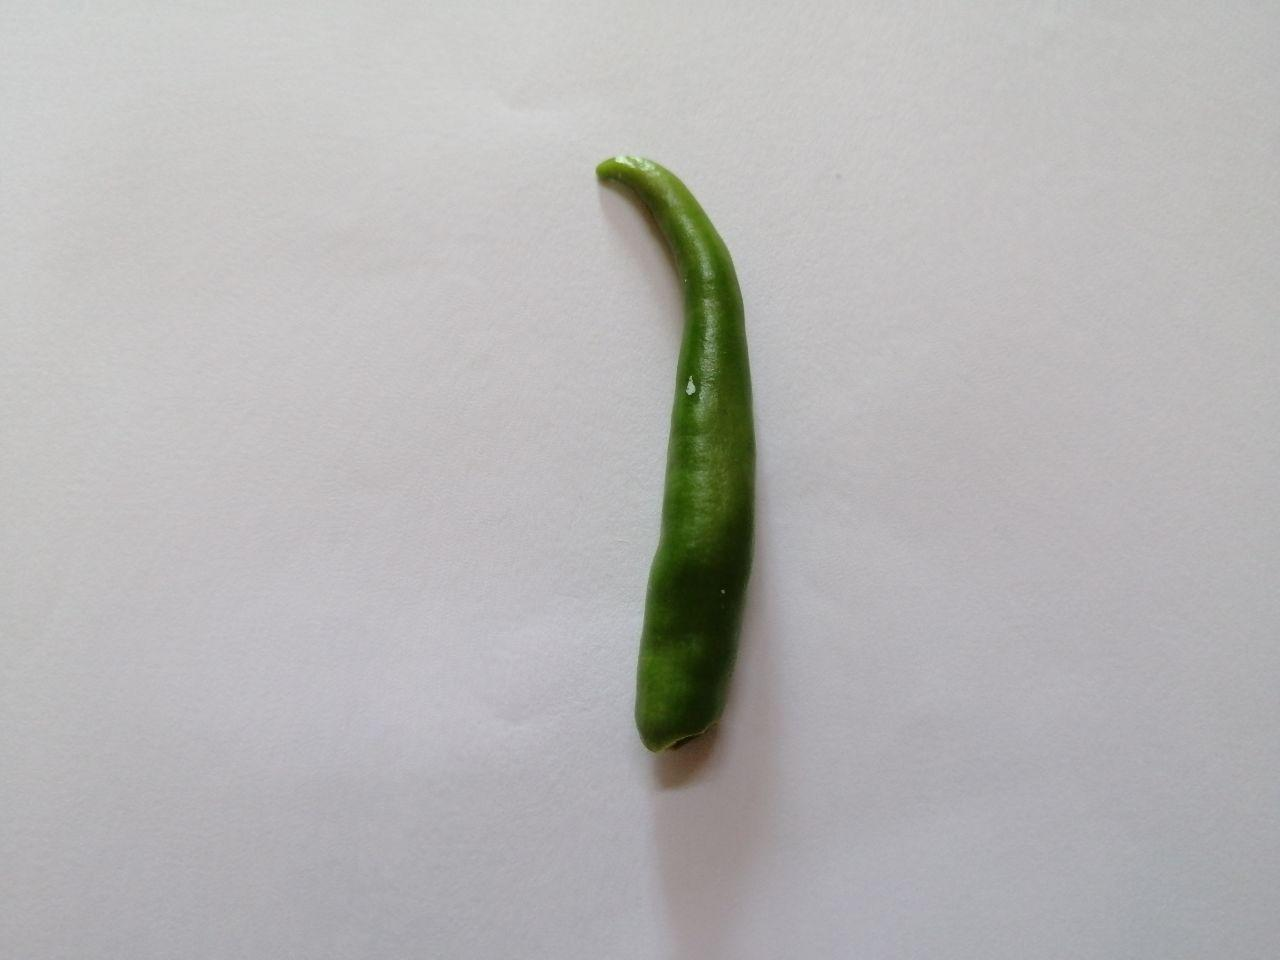lada hijau: (572, 136, 774, 796)
